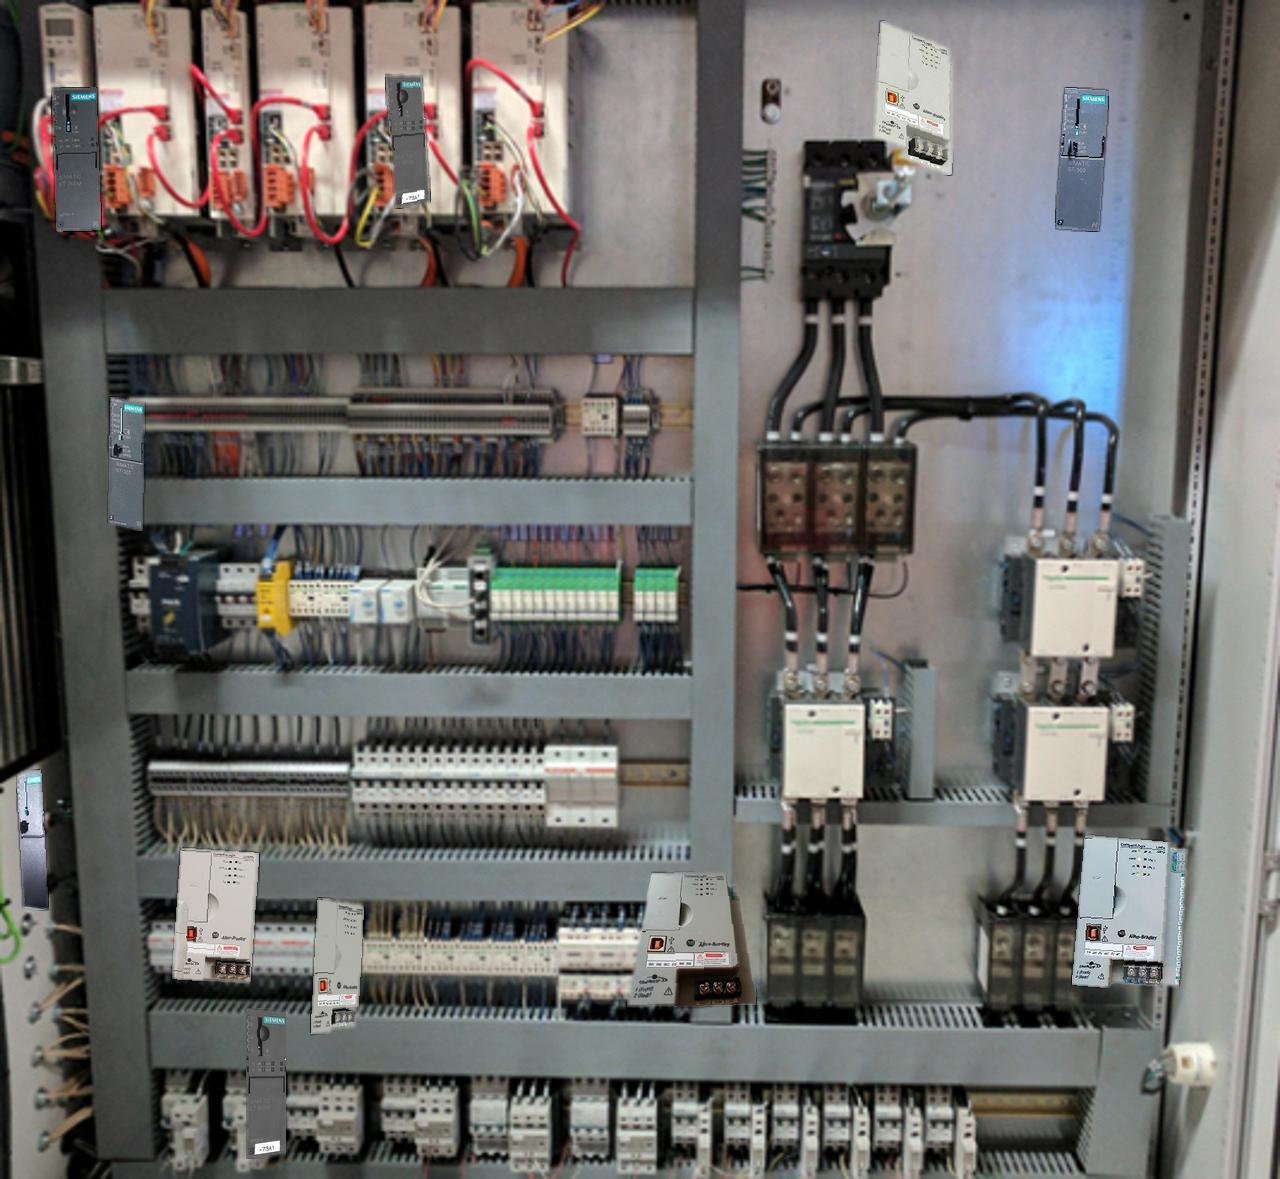AllenBradley: (1071, 835, 1186, 987), (627, 873, 755, 1006), (874, 21, 952, 174), (173, 848, 258, 982), (310, 898, 363, 1033)
Siemens: (1055, 88, 1108, 230), (109, 397, 143, 530), (17, 769, 48, 908)
